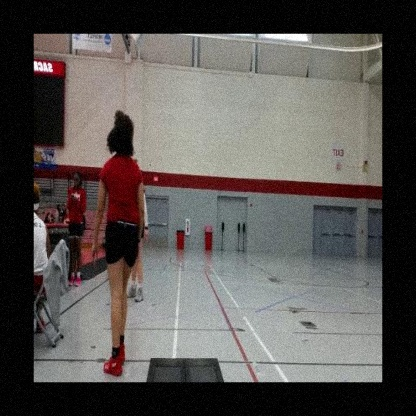lateral_flexion_left: (90, 108, 146, 382)
stance_width_narrow: (102, 151, 146, 382)
